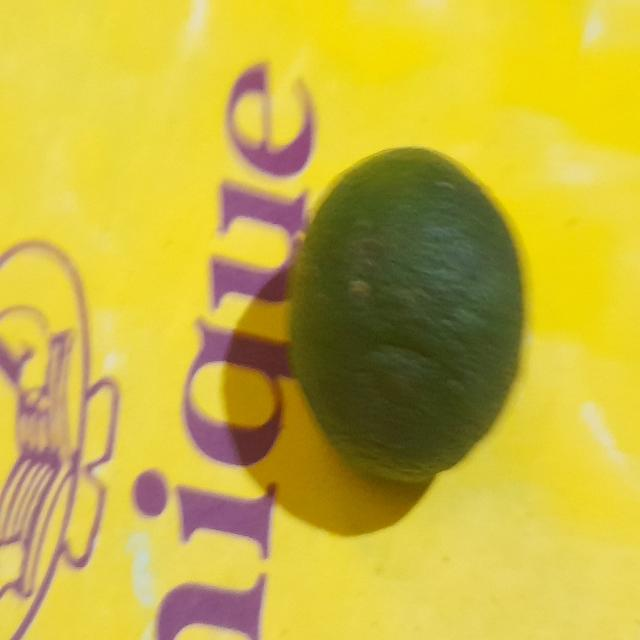heathy: (288, 147, 525, 493)
